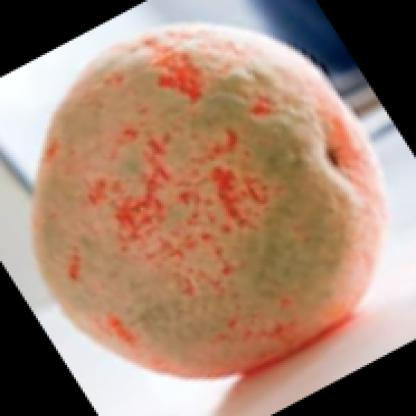rotten: (35, 25, 385, 375)
